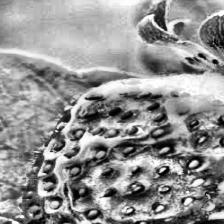Anthracnose Fruit Rot: (47, 89, 224, 224)
